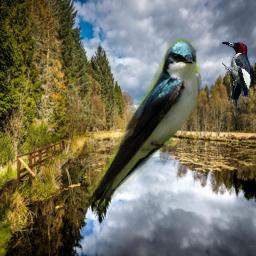Swallow: (88, 38, 203, 212)
Woodpecker: (222, 41, 252, 116)
